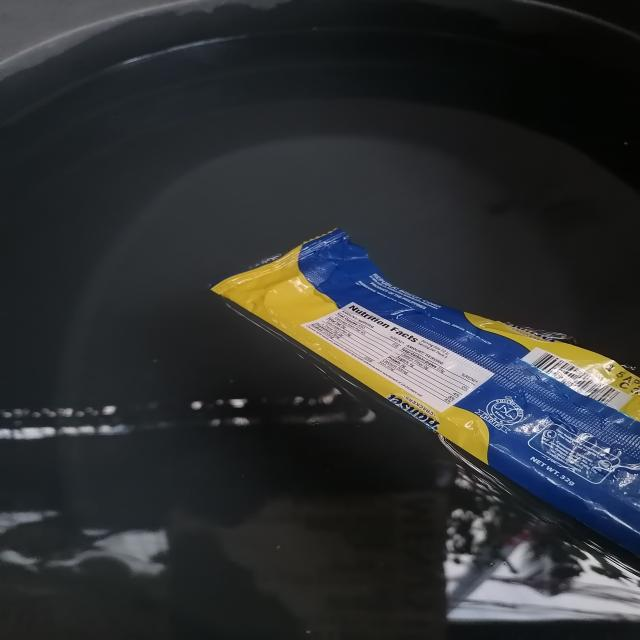Plastic Pouch: (213, 230, 640, 554)
Plastic Wrapper: (214, 229, 640, 555)
